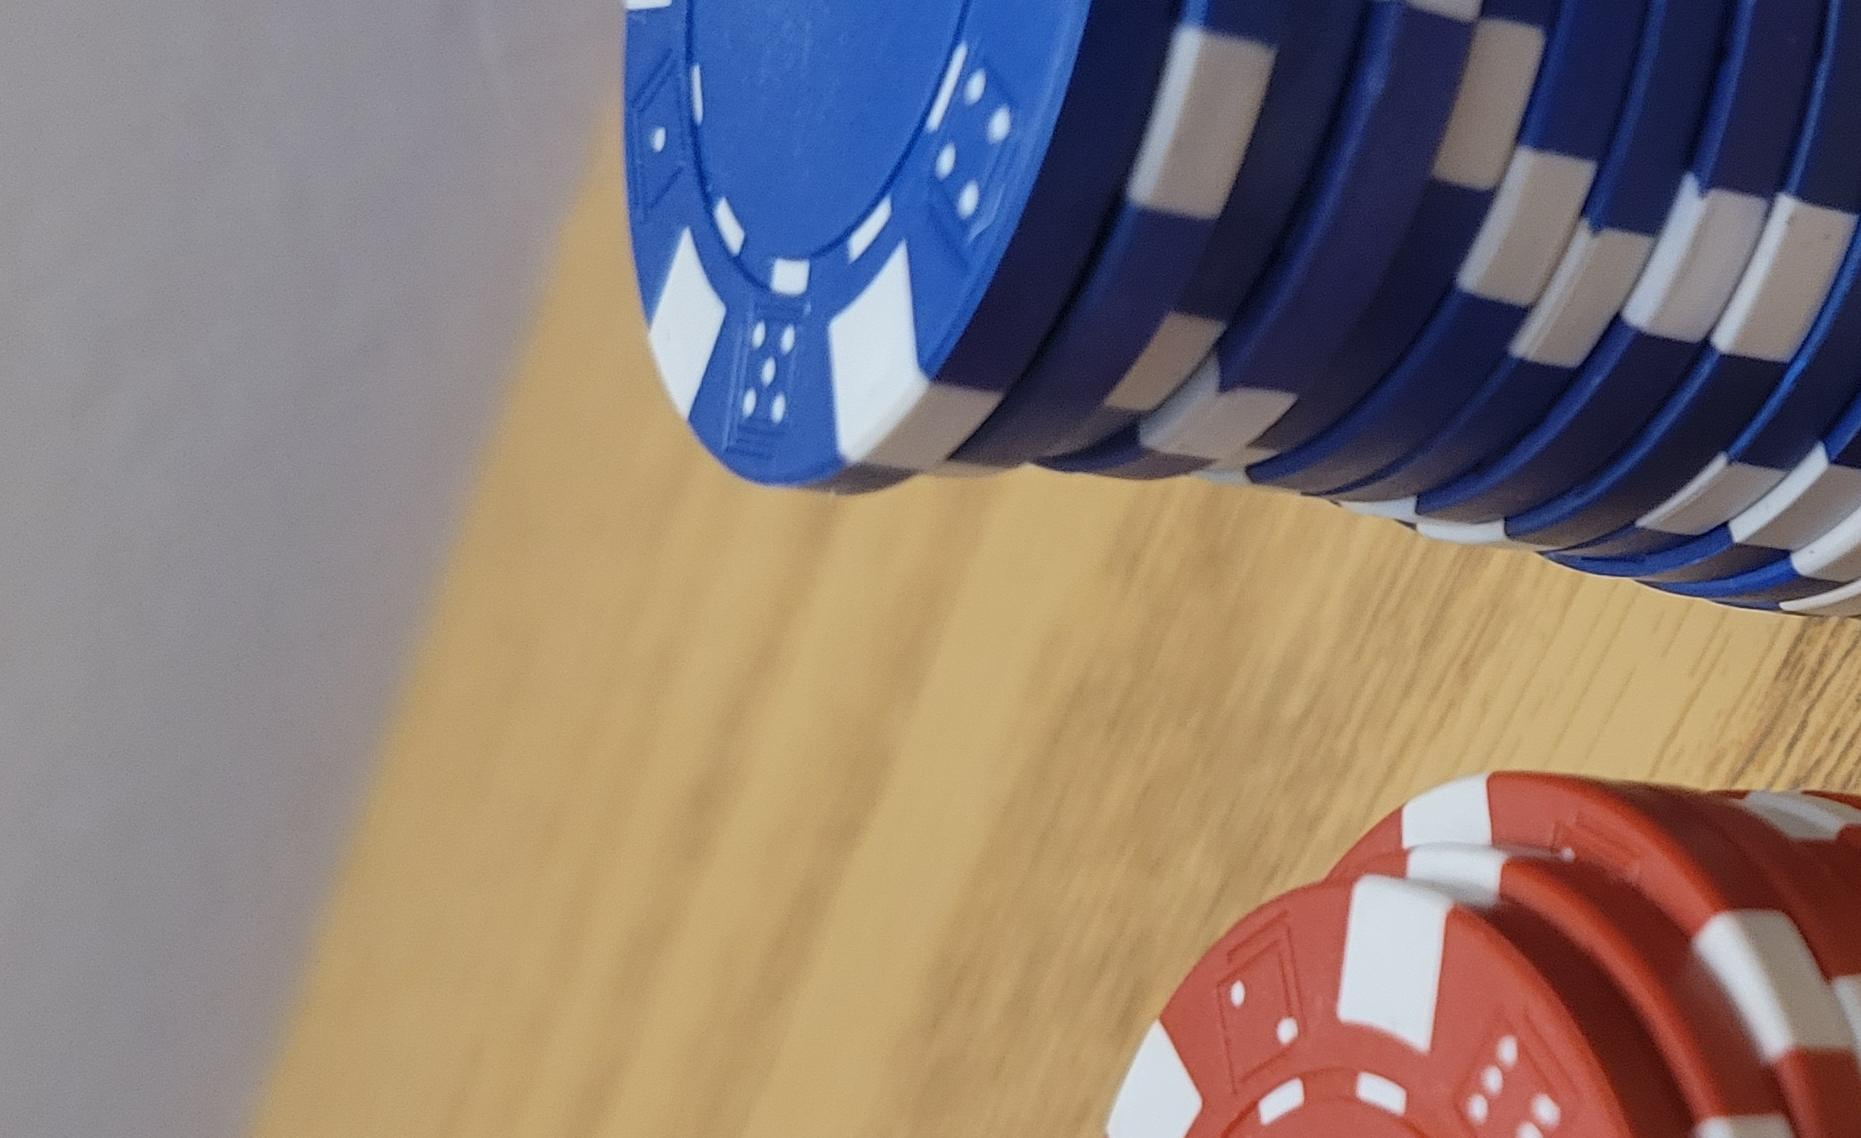Chip: (1, 281, 1360, 1138)
